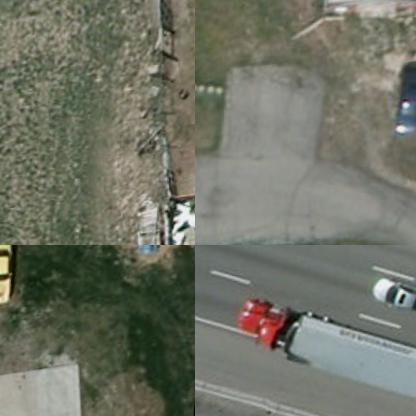car: (366, 268, 415, 321), (391, 63, 415, 143), (0, 245, 23, 313)
truck: (214, 247, 415, 415)
